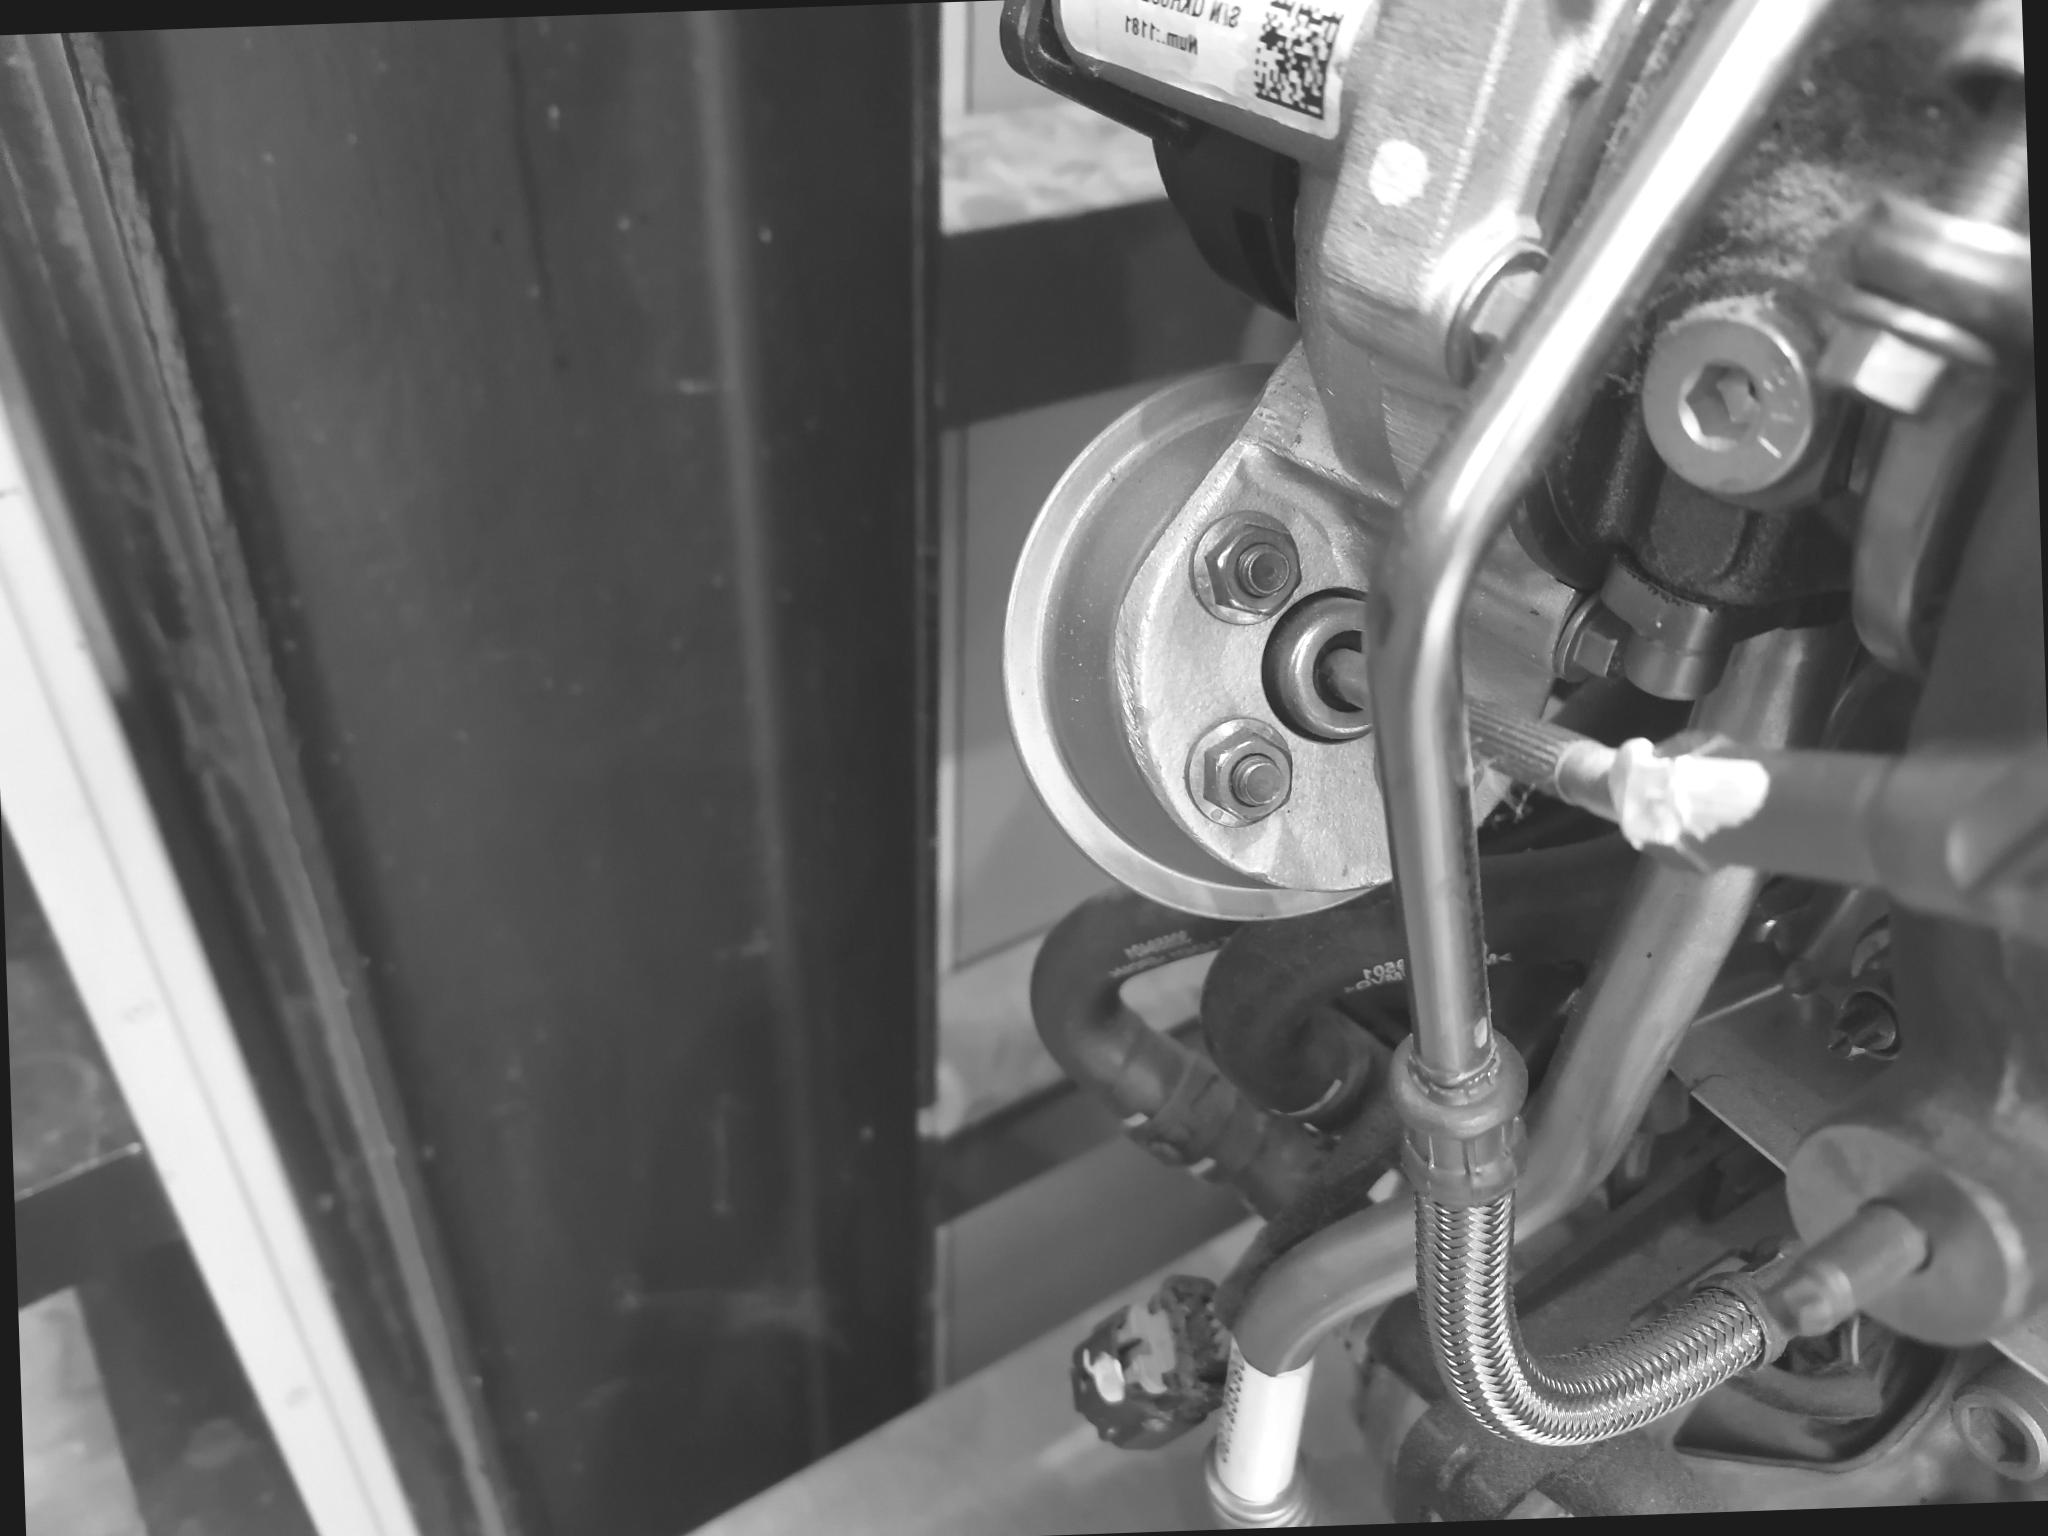hexagonal: (1179, 708, 1306, 837), (1180, 503, 1305, 632)
